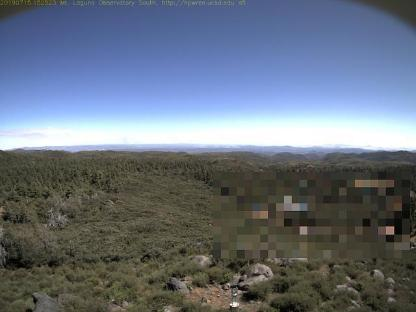smoke: (120, 138, 130, 150)
